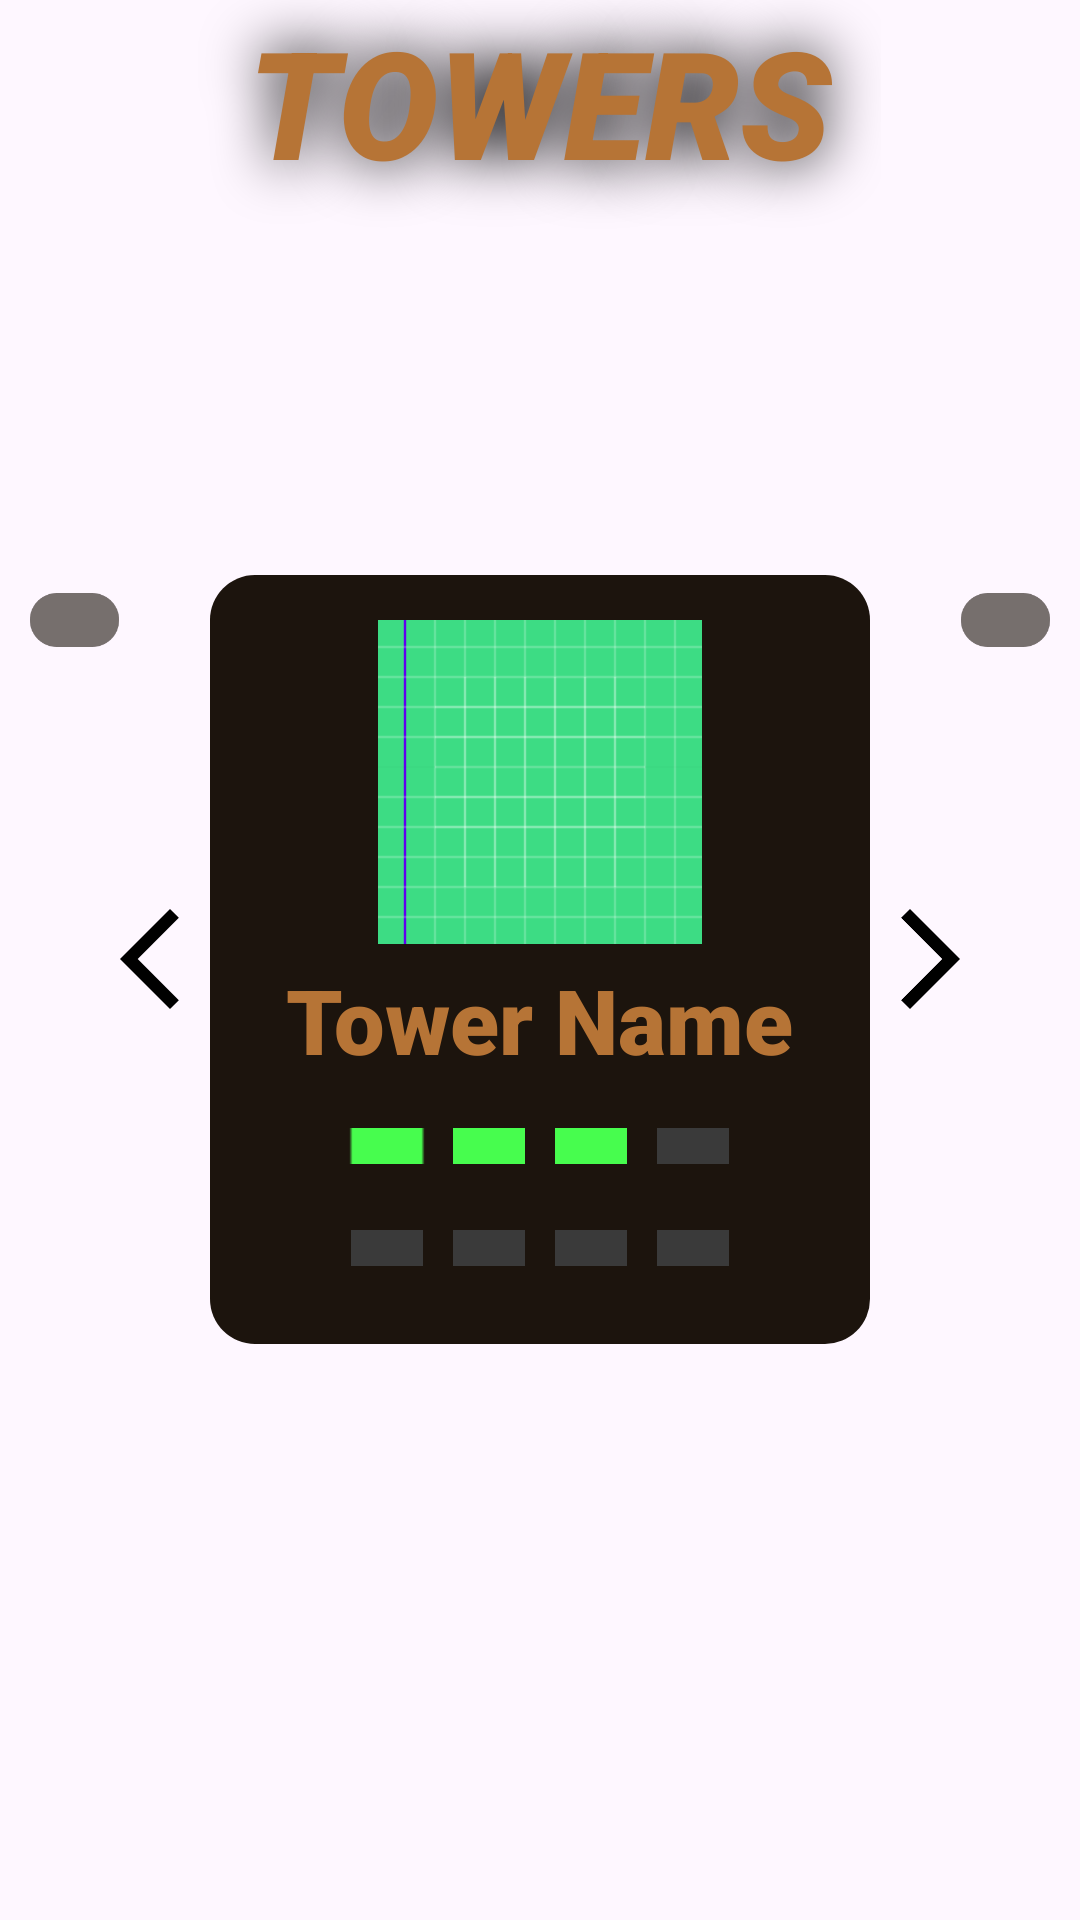

Point at icon controls on the screen. Image size 1080 x 1920, points as point (x, y).
left arrow: point (149, 959)
right arrow: point (930, 959)
